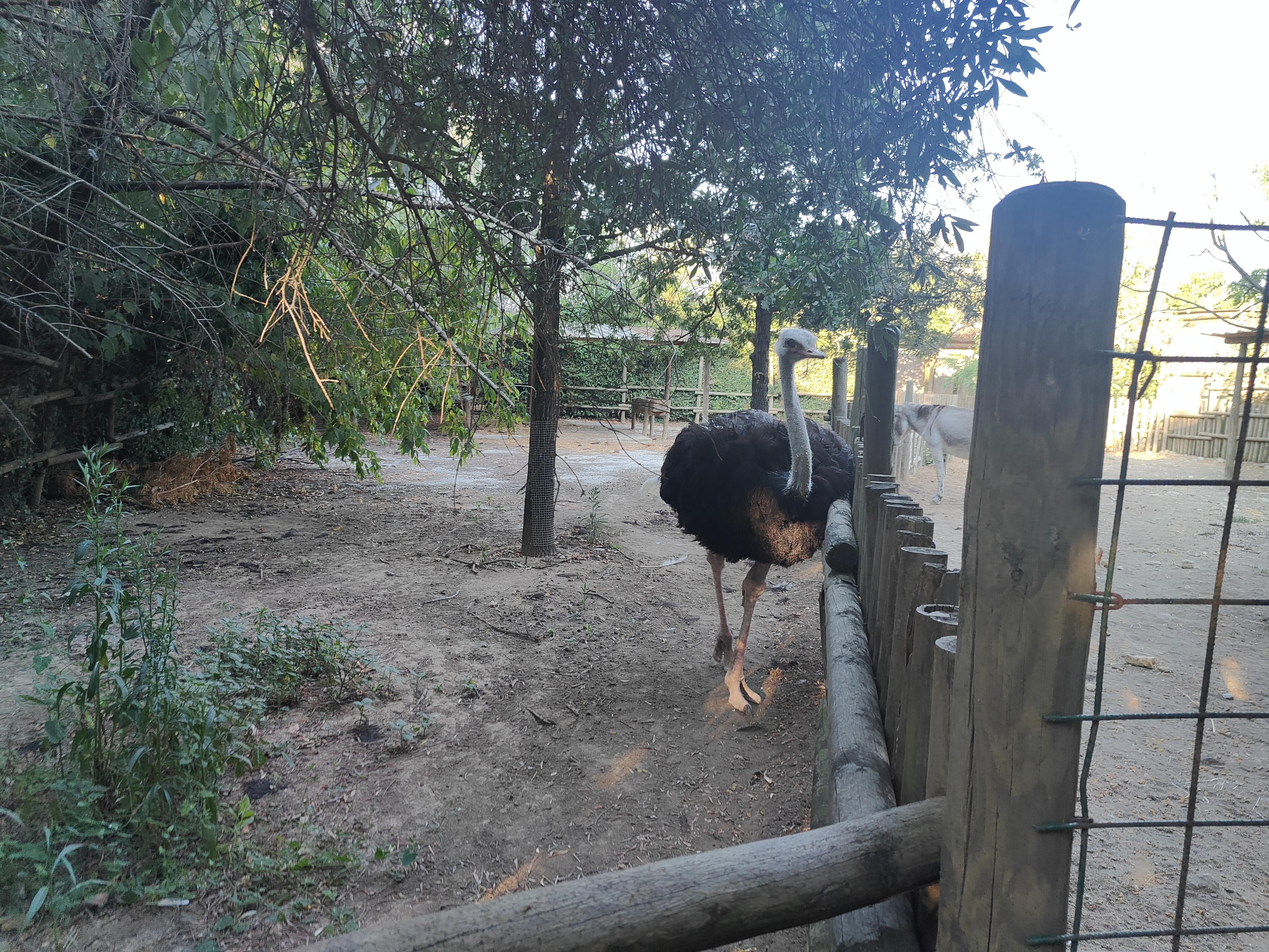apple: (660, 327, 856, 717)
